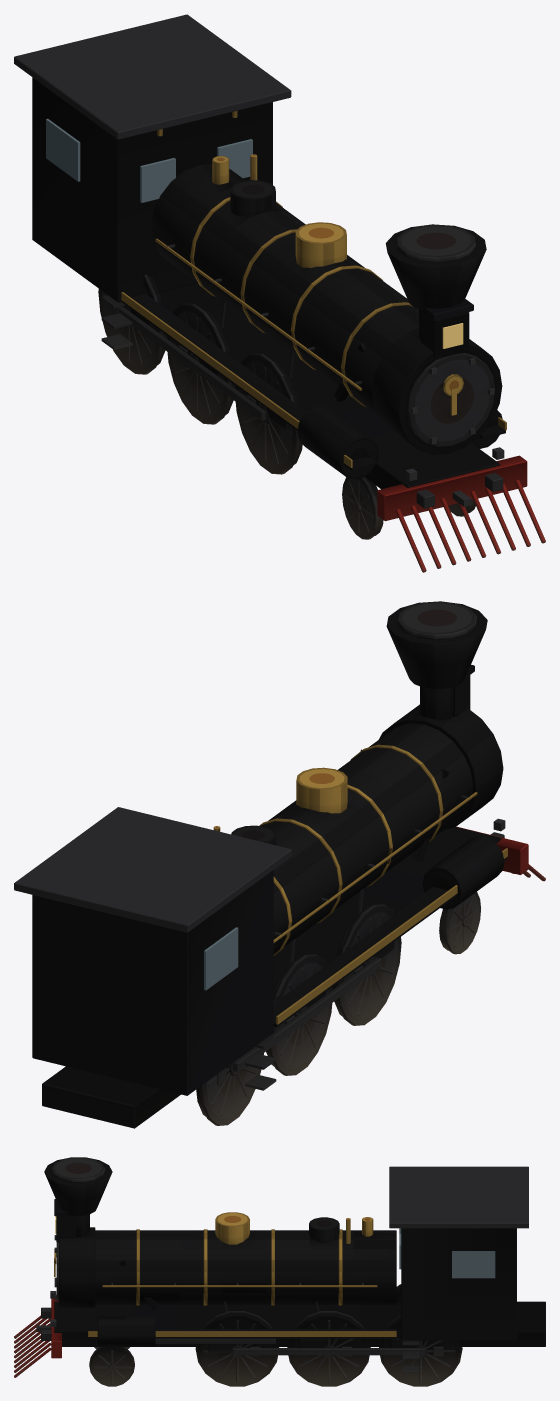
Rendered from tren_lokomotif.glb.
3 renders of one model, top to bottom at view 1: azimuth 30°, elevation 25°; view 2: azimuth 150°, elevation 25°; view 3: azimuth 270°, elevation 25°, orthographic. The views are drawn at different scales.
Parts seen in each view (by area): view 1: dark-cab-007, dark-boiler-002, dark-frame-001, dark-boards-008, dark-stack-003, dark-cylinders-005, stone-domes-001, dark-wheel-009, dark-wheel-011, window-cab-002, dark-pilot-006, dark-wheel-013 (+3 smaller); view 2: dark-cab-007, dark-boiler-002, dark-frame-001, dark-stack-003, dark-boards-008, dark-cylinders-005, dark-wheel-009, dark-wheel-011, stone-domes-001, dark-wheel-013, dark-wheel-015, window-cab-002 (+1 smaller); view 3: dark-boiler-002, dark-cab-007, dark-frame-001, dark-cylinders-005, dark-boards-008, dark-wheel-012, dark-wheel-010, dark-stack-003, dark-wheel-014, stone-domes-001, dark-wheel-016, window-cab-002 (+3 smaller).
Boxes of the visible parts, left/top/right/bottom form: dark-cab-007: left=14, top=14, right=291, bottom=302; dark-boiler-002: left=151, top=164, right=502, bottom=454; dark-frame-001: left=160, top=283, right=527, bottom=521; dark-boards-008: left=101, top=110, right=506, bottom=470; dark-stack-003: left=385, top=224, right=486, bottom=339; dark-cylinders-005: left=118, top=306, right=502, bottom=479; stone-domes-001: left=212, top=154, right=346, bottom=267; dark-wheel-009: left=235, top=353, right=302, bottom=474; dark-wheel-011: left=167, top=303, right=235, bottom=424; window-cab-002: left=46, top=118, right=252, bottom=202; dark-pilot-006: left=396, top=479, right=545, bottom=572; dark-wheel-013: left=98, top=274, right=166, bottom=374; dark-cab-007: left=14, top=807, right=291, bottom=1095; dark-boiler-002: left=259, top=704, right=503, bottom=955; dark-frame-001: left=42, top=826, right=528, bottom=1128; dark-stack-003: left=386, top=601, right=487, bottom=719; dark-boards-008: left=245, top=749, right=507, bottom=1090; dark-cylinders-005: left=233, top=836, right=504, bottom=1071; dark-wheel-009: left=332, top=904, right=401, bottom=1025; dark-wheel-011: left=266, top=954, right=332, bottom=1075; stone-domes-001: left=213, top=767, right=347, bottom=845; dark-wheel-013: left=196, top=1047, right=263, bottom=1125; dark-wheel-015: left=439, top=891, right=480, bottom=954; window-cab-002: left=204, top=927, right=238, bottom=990; dark-boiler-002: left=56, top=1227, right=396, bottom=1307; dark-cab-007: left=389, top=1166, right=528, bottom=1340; dark-frame-001: left=41, top=1298, right=545, bottom=1358; dark-cylinders-005: left=97, top=1316, right=425, bottom=1355; dark-boards-008: left=88, top=1259, right=419, bottom=1373; dark-wheel-012: left=287, top=1311, right=370, bottom=1386; dark-wheel-010: left=195, top=1311, right=279, bottom=1386; dark-stack-003: left=44, top=1157, right=112, bottom=1237; dark-wheel-014: left=379, top=1315, right=462, bottom=1386; stone-domes-001: left=215, top=1212, right=373, bottom=1244; dark-wheel-016: left=89, top=1346, right=134, bottom=1386; window-cab-002: left=399, top=1228, right=495, bottom=1278.
Size of the model in its own units: 2.8 by 4.66 by 11.04.
